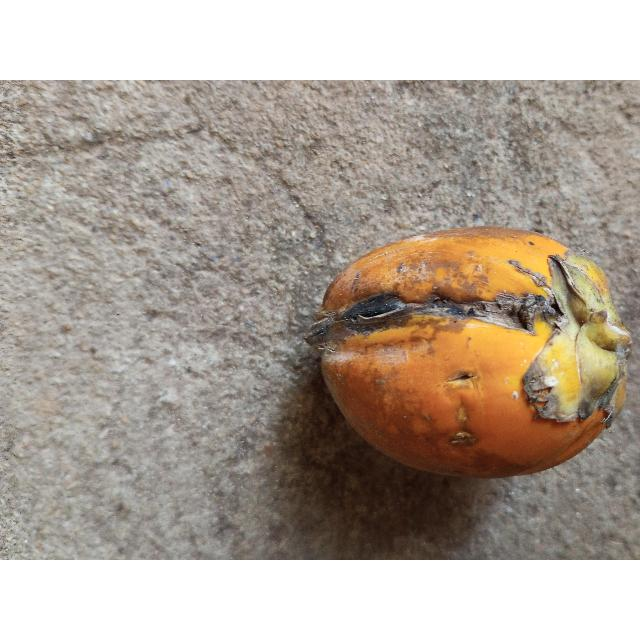damaged: (305, 227, 632, 477)
